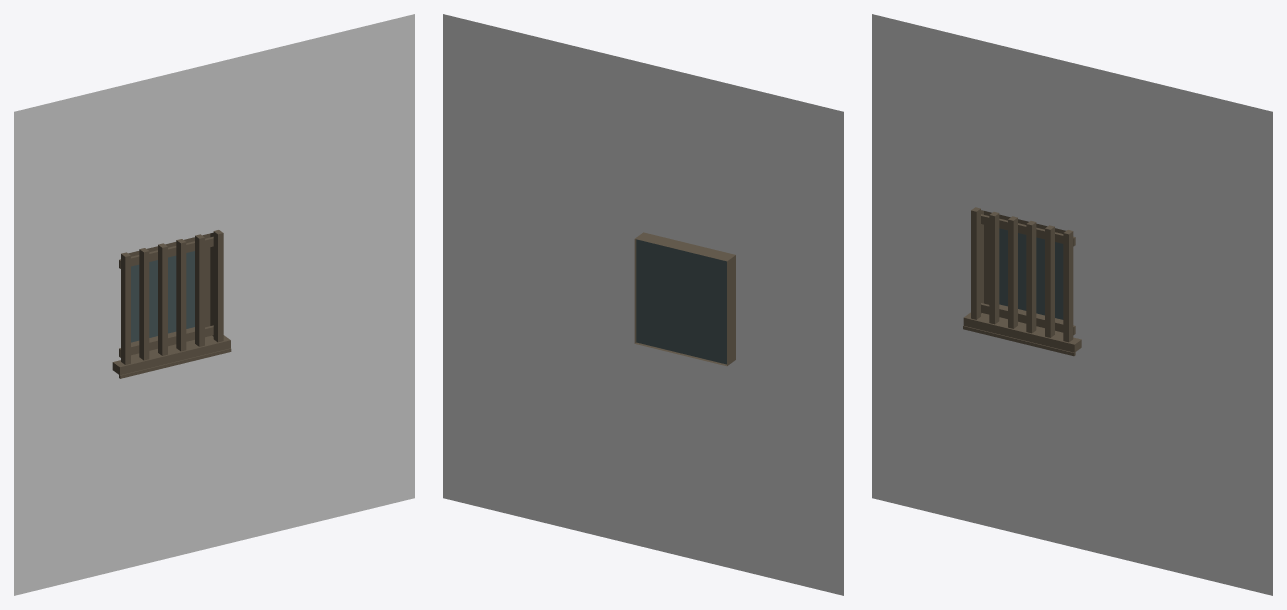
File: top-w4_close.fbx
The picture shows the model from 3 angles, left to right: view 1: azimuth 30°, elevation 25°; view 2: azimuth 150°, elevation 25°; view 3: azimuth 330°, elevation 25°; orthographic projection.
Parts seen in each view (by area): view 1: a2015/800/top-w4_close; view 2: a2015/800/top-w4_close; view 3: a2015/800/top-w4_close.
Part boxes in pixels (x1,y1,x2,y2): a2015/800/top-w4_close: (14,14,414,595); a2015/800/top-w4_close: (443,14,843,595); a2015/800/top-w4_close: (872,14,1272,595).
Size of the model in its own units: 2.6 by 3 by 0.185.
